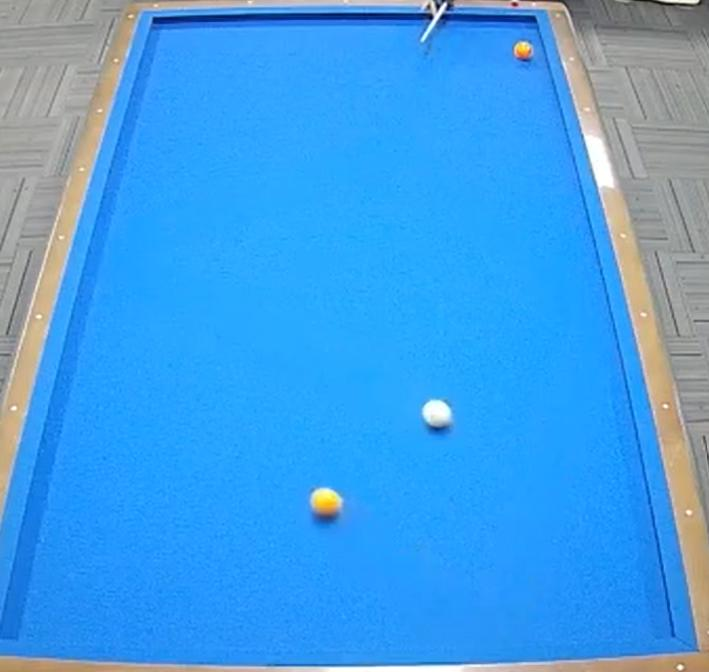orange ball: (510, 35, 538, 68)
white ball: (419, 392, 458, 441)
yellow ball: (305, 485, 350, 526)
